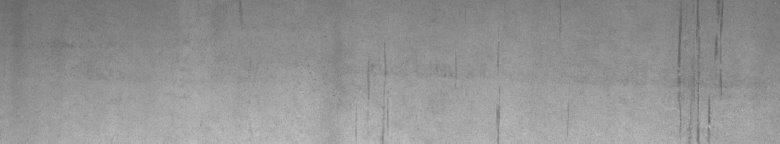ka: (676, 6, 727, 136)
